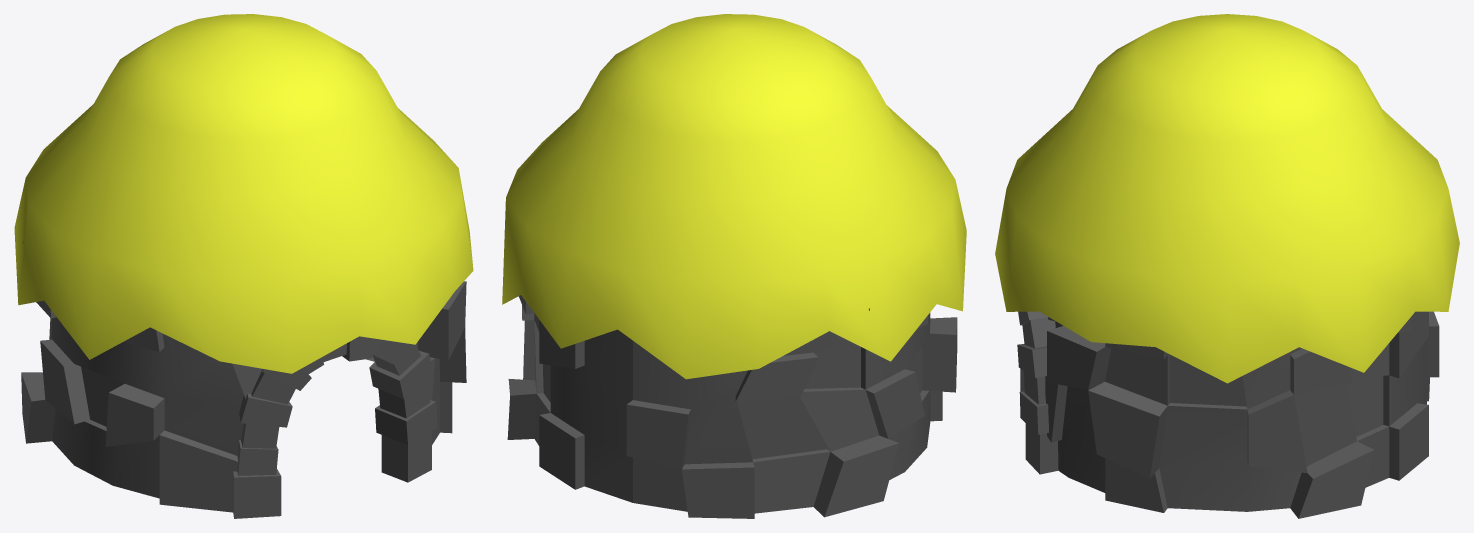
Rendered from Cabaña_Entera.fbx.
3 views of the same model, side by side, from view 1: azimuth 30°, elevation 25°; view 2: azimuth 150°, elevation 25°; view 3: azimuth 270°, elevation 25° (orthographic).
Visible parts, largest first — view 1: Techo, Box001; view 2: Techo, Box001; view 3: Techo, Box001.
Boxes of the visible parts, <box> form: Techo: <box>14,14,473,373</box>; Box001: <box>21,241,466,518</box>; Techo: <box>502,14,966,379</box>; Box001: <box>507,295,957,518</box>; Techo: <box>995,14,1459,383</box>; Box001: <box>1017,311,1439,518</box>.
Bounding box in the file's own units: 3.24 × 3.06 × 3.24.
